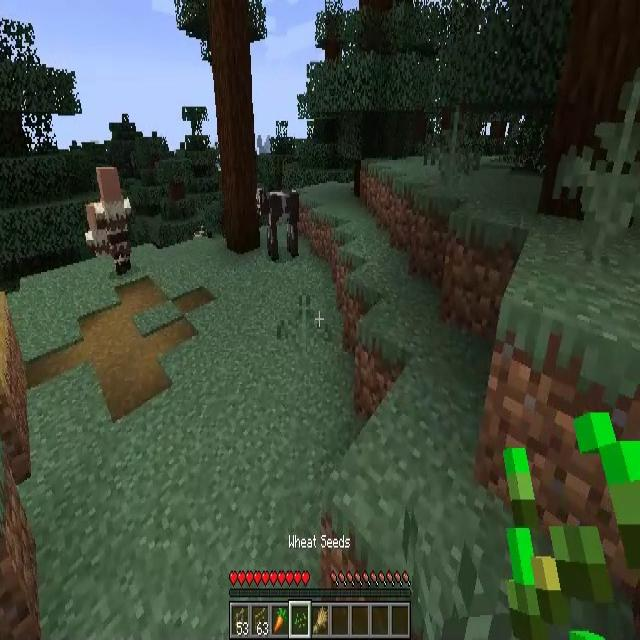cow: (256, 188, 298, 257)
people: (86, 167, 131, 277)
